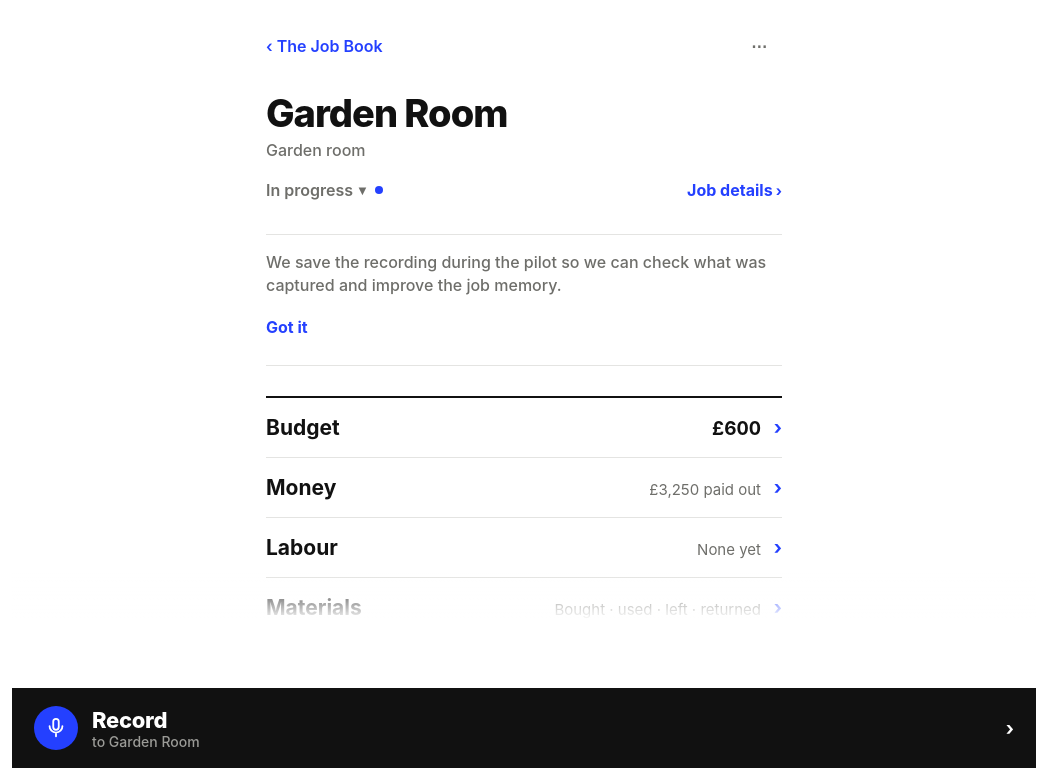
Test case: Money — section › shows a supplier account payment as one row, named by the account
Click the button with aria-label "Open Money" at coordinates (301, 488), box [266,458,782,518]
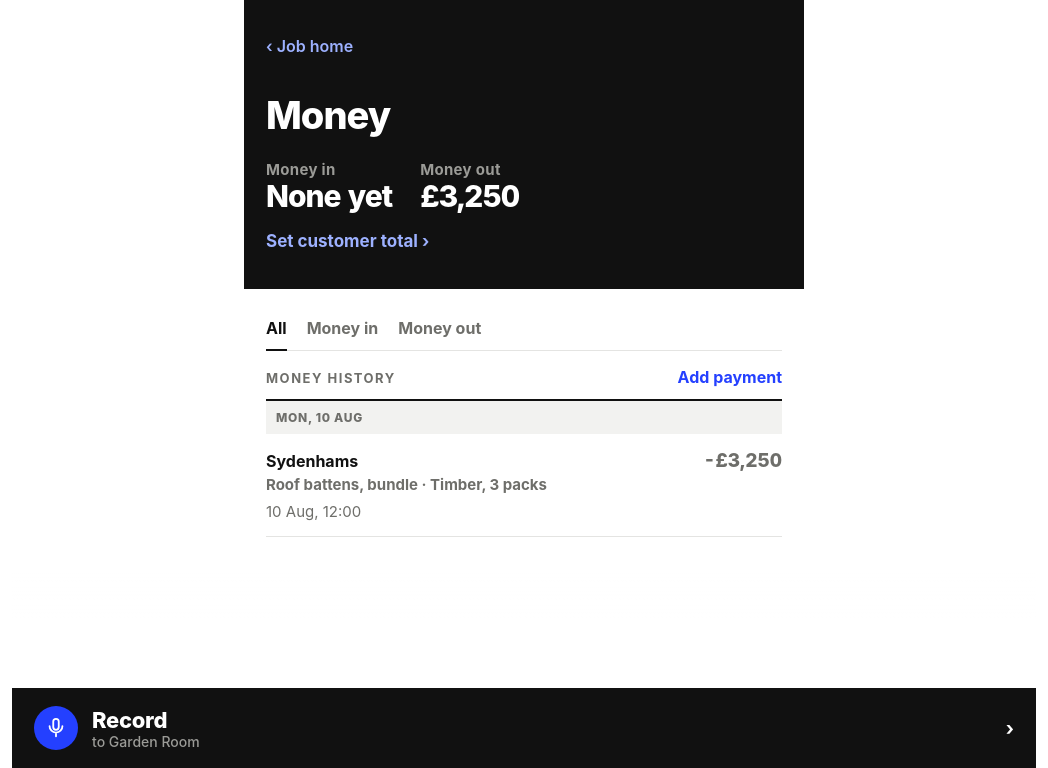
Now the panel "Money" is shown, box [266,134,782,537]
Now the text "Sydenhams" is shown, box [266,451,358,471]
Now the text "Roof battens, bundle · Timber, 3 packs" is shown, box [266,475,547,494]
